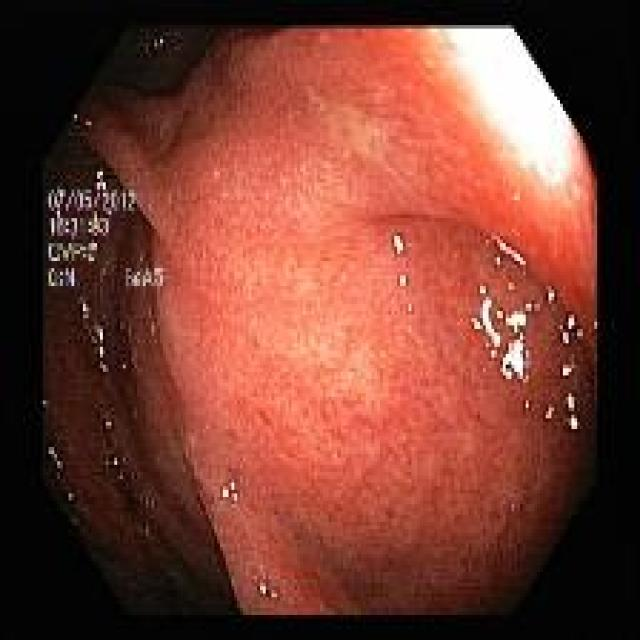ulcerative-colitis: (44, 28, 596, 614)
